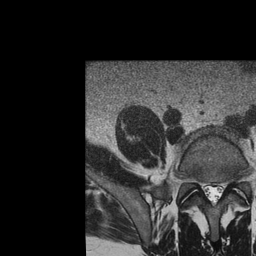CCS_normal: (209, 175, 216, 211)
LFS_stenosis: (226, 171, 234, 191)
LLS_normal: (217, 176, 225, 202)
RFS_severe_stenosis: (194, 169, 202, 192)
RLS_normal: (201, 175, 209, 204)
